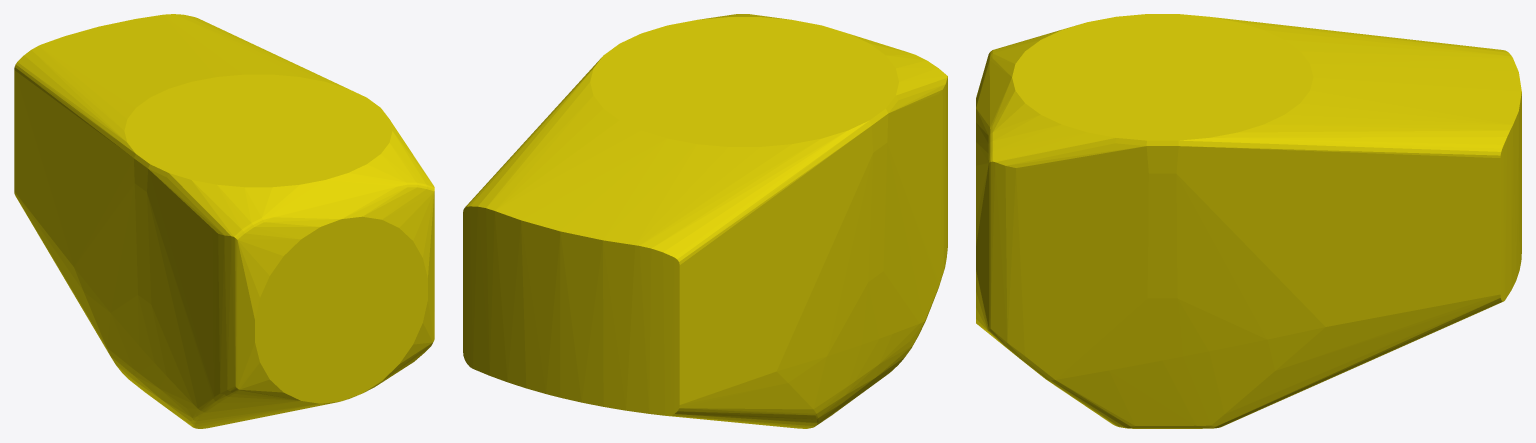
File: elbow_link.dae
The picture shows the model from 3 angles, left to right: view 1: azimuth 30°, elevation 25°; view 2: azimuth 150°, elevation 25°; view 3: azimuth 270°, elevation 25°; orthographic projection. The views are drawn at different scales.
Parts seen in each view (by area): view 1: node; view 2: node; view 3: node.
Part boxes in pixels (x1=…): node: x1=14, y1=14, x2=434, y2=428; node: x1=463, y1=14, x2=947, y2=428; node: x1=976, y1=14, x2=1521, y2=428.
Bounding box in the file's own units: 0.3486 × 0.373 × 0.623.
